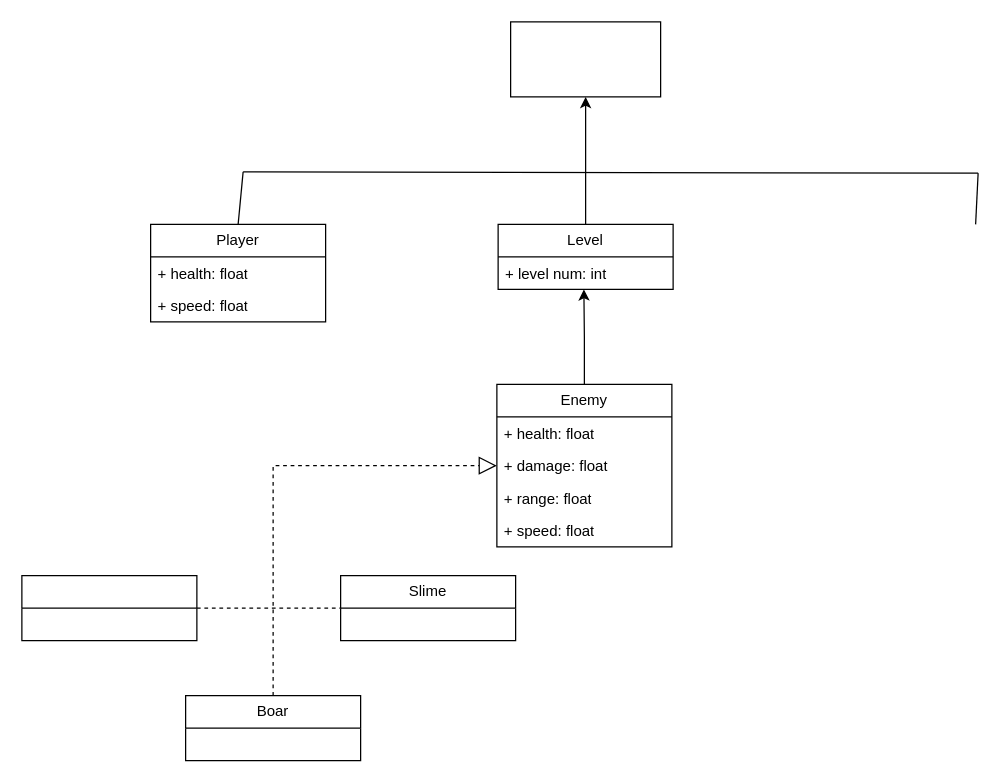
The diagram is 1001 pixels wide and 783 high, and some of its shapes have lost their labels. Here are the shapes that lost their labels. From the top down, the centre of each, then its label:
(585,59): Game
(109,607): Bee
